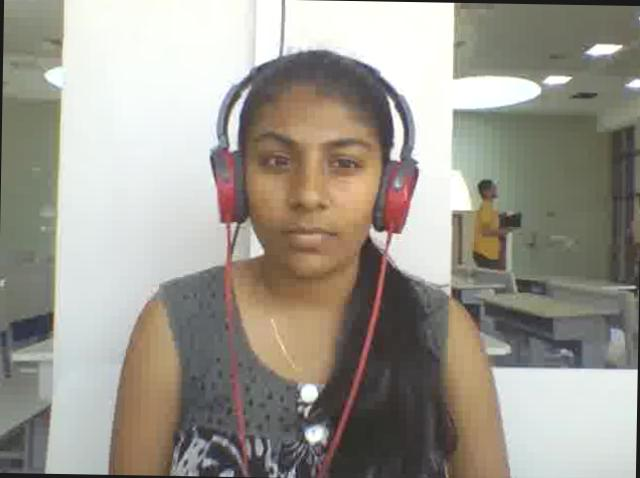bingung: (241, 86, 388, 275)
